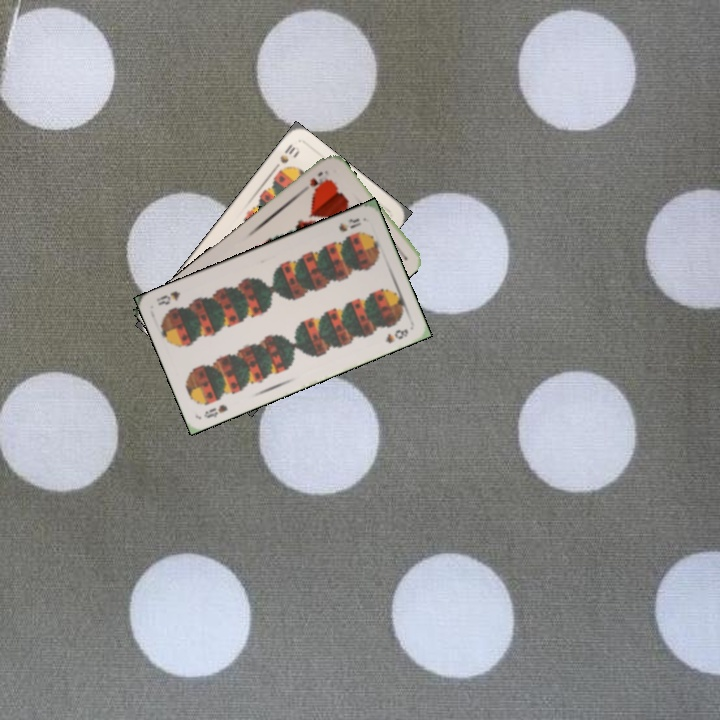HO: (306, 167, 330, 192)
S10: (269, 140, 302, 174)
S8: (200, 401, 230, 421), (335, 214, 364, 234)
